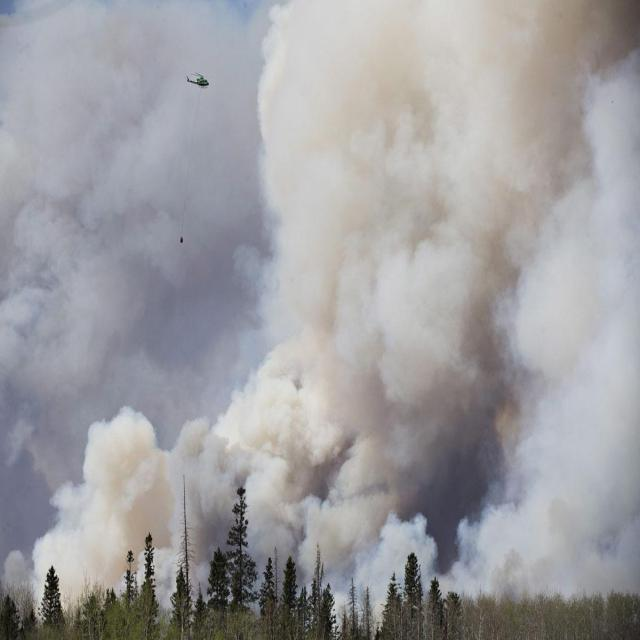Smoke: (0, 16, 640, 388), (26, 219, 640, 546), (27, 414, 160, 628), (34, 493, 86, 614)
